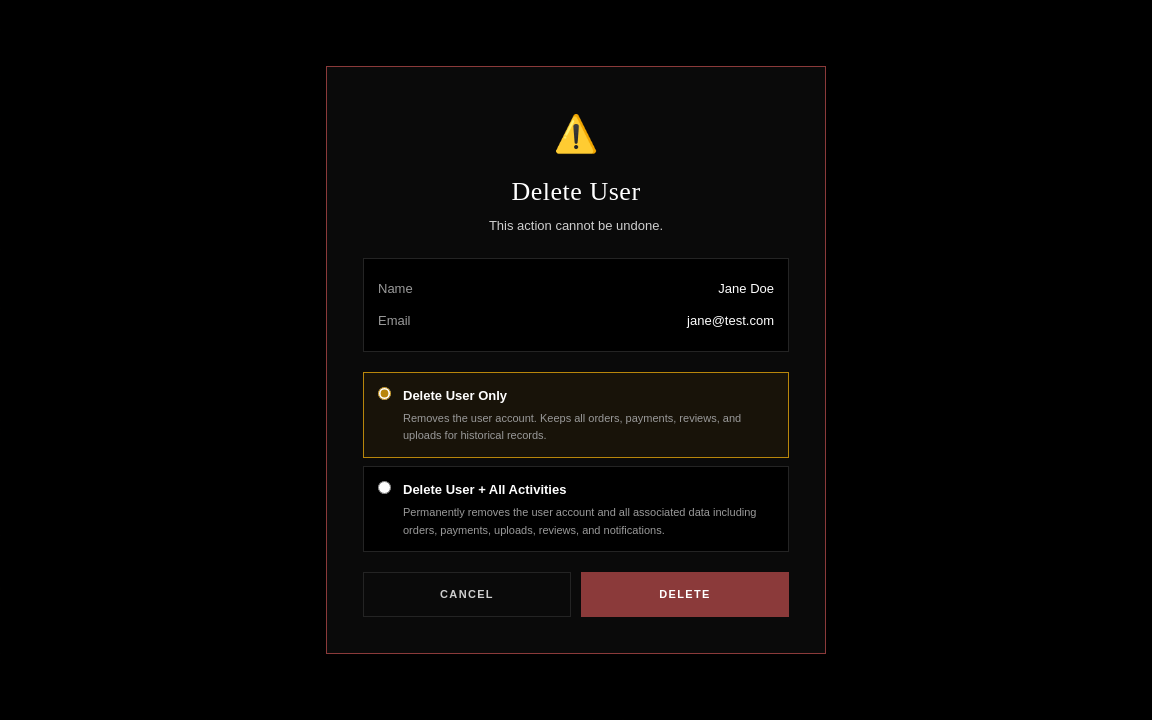
Test: ConfirmDeleteModal › switches to full when that option is selected
Click the radio button showing "full" at (384, 488), box [378, 481, 391, 494]
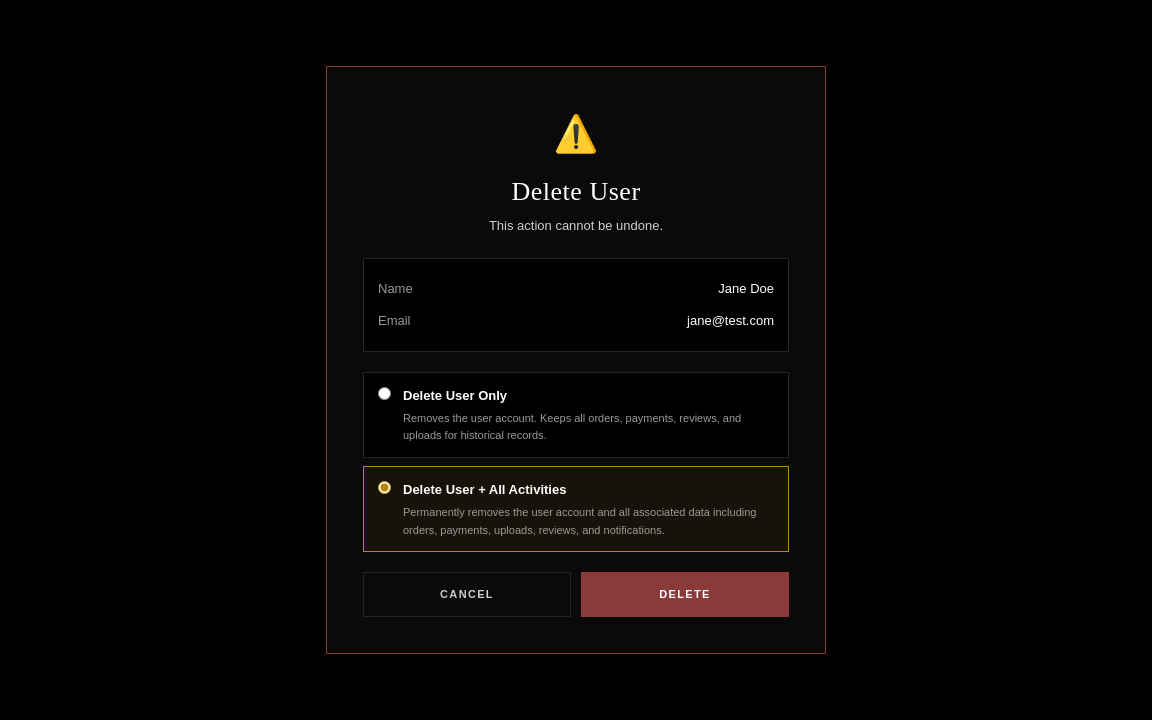
Result: the radio button showing "full" is checked at [378, 481, 391, 494]
Result: the radio button showing "user_only" is not checked at [378, 387, 391, 400]
